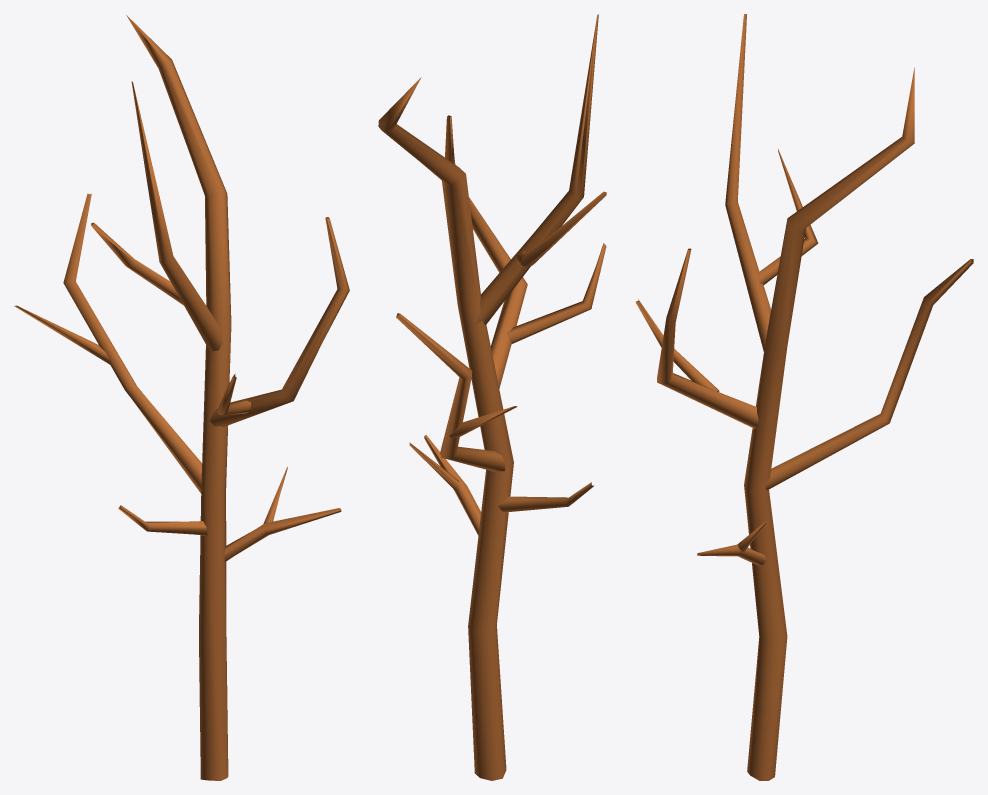
Rendered from treeTrunk2.glb.
3 views of the same model, side by side, from view 1: azimuth 30°, elevation 25°; view 2: azimuth 150°, elevation 25°; view 3: azimuth 270°, elevation 25° (orthographic). The views are drawn at different scales.
Parts seen in each view (by area): view 1: treeBody.012; view 2: treeBody.012; view 3: treeBody.012.
Boxes of the visible parts, x1,y1,x2,y2 form: treeBody.012: (14, 15, 349, 780); treeBody.012: (378, 14, 606, 780); treeBody.012: (635, 14, 973, 780).
Bounding box in the file's own units: 2.12 × 7.03 × 3.
1 material, 1 textured.
